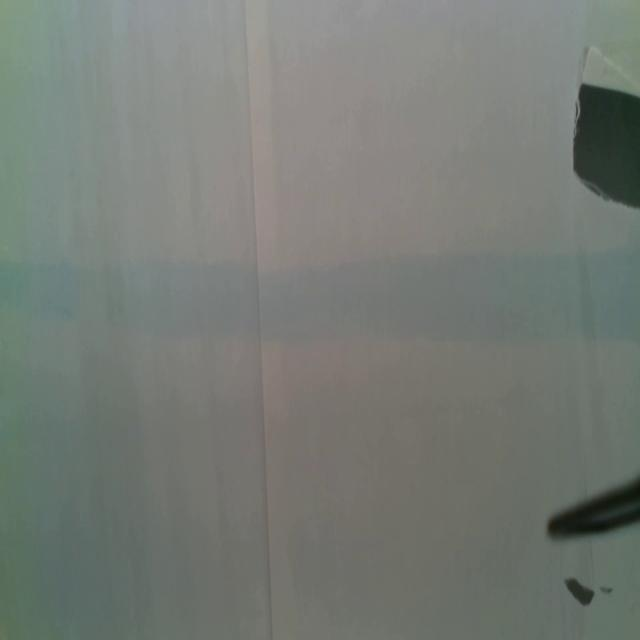color bleeding: (0, 243, 640, 347)
hole: (570, 82, 640, 212), (562, 573, 598, 606), (599, 582, 615, 598)
